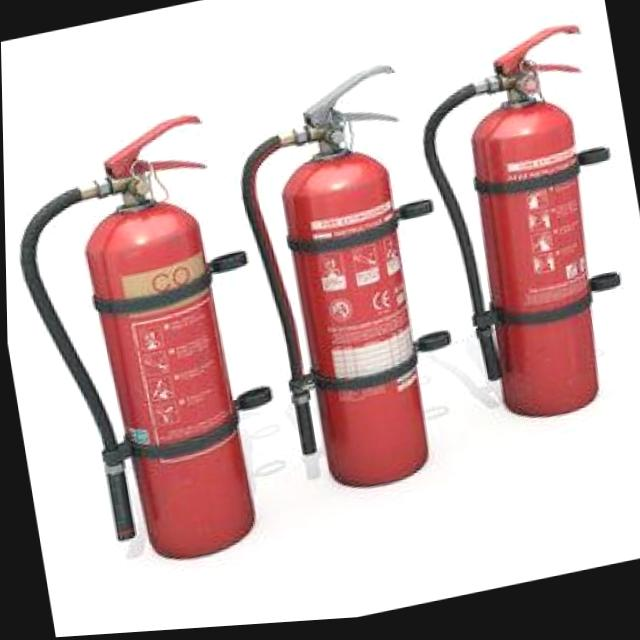FireExtinguisher: (2, 103, 270, 592), (216, 58, 462, 517), (399, 22, 640, 445)
